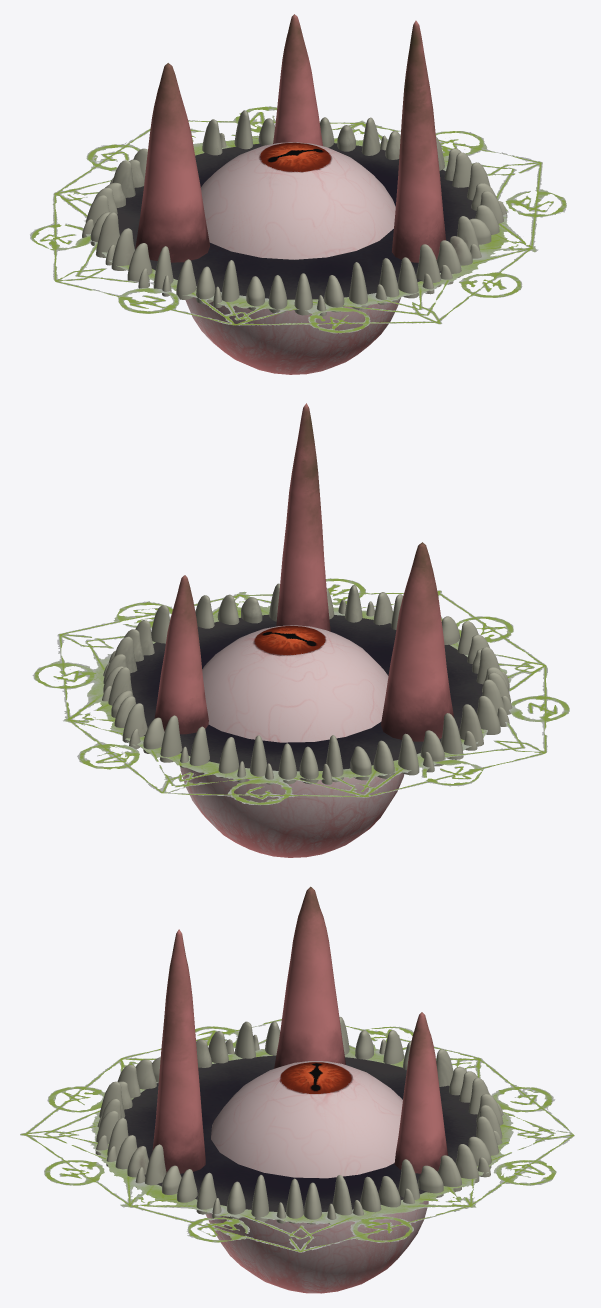
The model's file is Portal_GEO.fbx.
3 renders of one model, top to bottom at view 1: azimuth 30°, elevation 25°; view 2: azimuth 150°, elevation 25°; view 3: azimuth 270°, elevation 25°, orthographic.
Parts seen in each view (by area): view 1: PORT_GEO, pSphere3, pDisc4; view 2: PORT_GEO, pSphere3, pDisc4; view 3: PORT_GEO, pSphere3, pDisc4.
Part boxes in pixels (x1,y1,x2,y2): PORT_GEO: (82, 14, 507, 316); pSphere3: (185, 142, 400, 374); pDisc4: (30, 106, 566, 333); PORT_GEO: (102, 403, 512, 784); pSphere3: (180, 625, 404, 857); pDisc4: (32, 578, 569, 805); PORT_GEO: (95, 886, 503, 1224); pSphere3: (206, 1061, 428, 1293); pDisc4: (20, 1019, 574, 1252).
Bounding box in the file's own units: 1.97 × 1.44 × 1.97.
